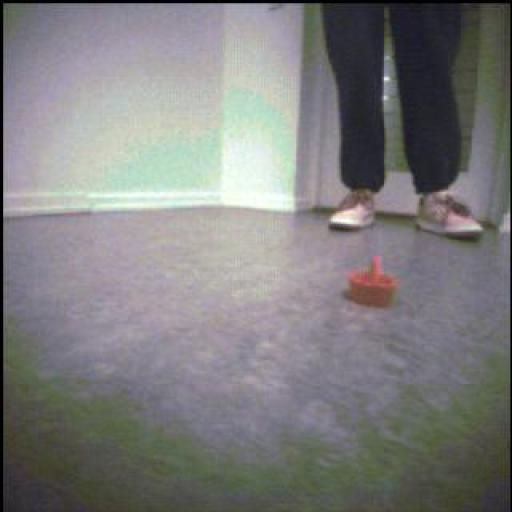Bucket: (349, 254, 399, 316)
